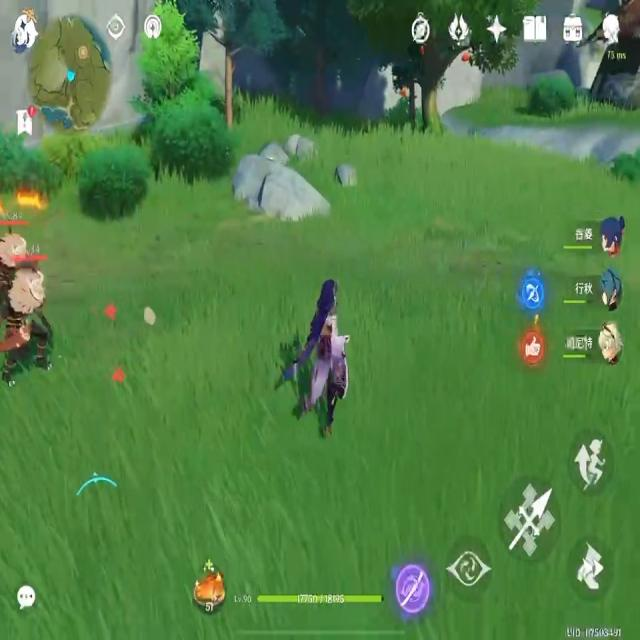genshin-hilichurls: (4, 257, 57, 379), (2, 219, 22, 287)
